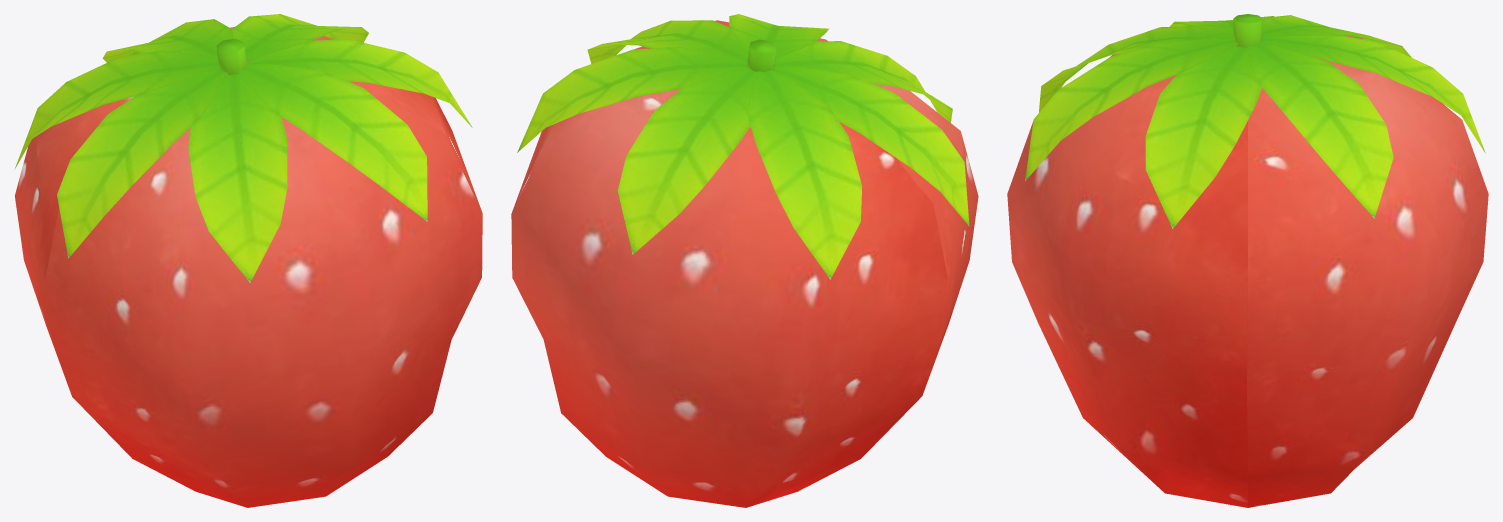
File: Strawberry.glb
3 renders of one model, left to right at view 1: azimuth 30°, elevation 25°; view 2: azimuth 150°, elevation 25°; view 3: azimuth 270°, elevation 25°, orthographic.
Visible parts, largest first — view 1: Cube_Material.001_0; view 2: Cube_Material.001_0; view 3: Cube_Material.001_0.
Boxes of the visible parts, x1,y1,x2,y2 form: Cube_Material.001_0: (14,14,482,507); Cube_Material.001_0: (511,14,978,507); Cube_Material.001_0: (1007,14,1488,507).
Size of the model in its own units: 0.4108 by 0.4326 by 0.4135.
1 material, 1 textured.
